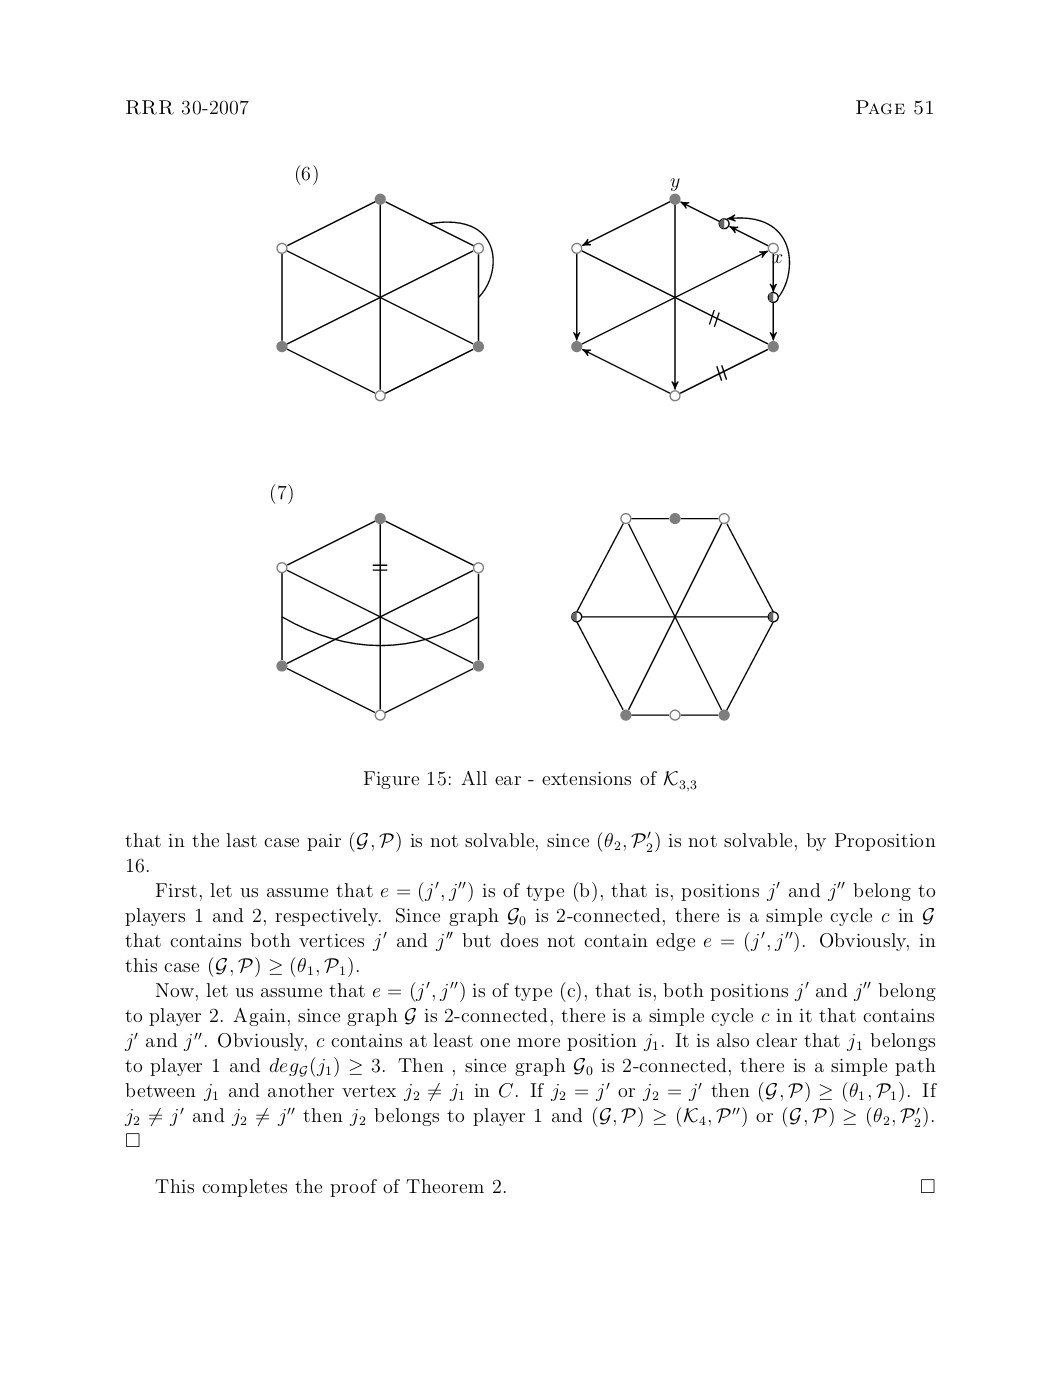figure: (571, 177, 790, 402), (276, 192, 493, 402), (571, 512, 778, 721), (276, 512, 483, 721)
